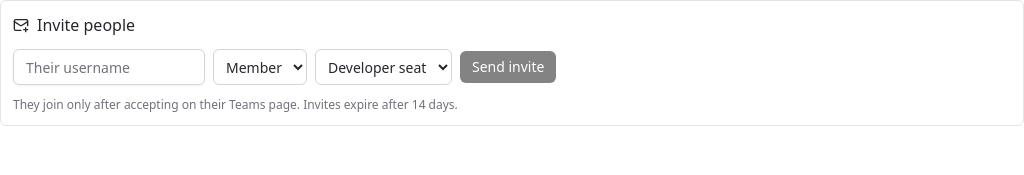
Test: OrganizationInvitesPanel › falls back to a generic error message
This screenshot has width=1024, height=175.
Type "ghost" into the field labelled "username".
click(109, 67); type("ghost")  # box [13,49,205,85]
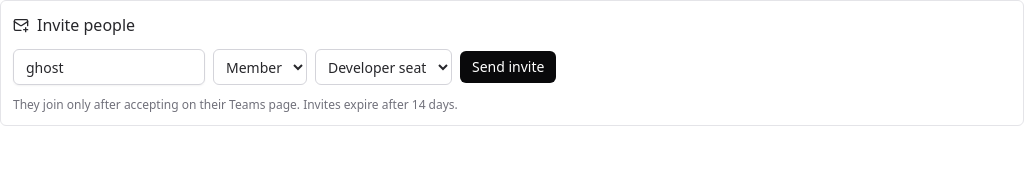
Submit the form named "Invite by username", box [13,49,556,85]
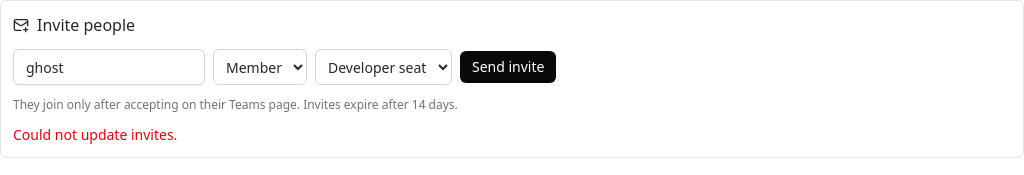
Check: the message reads "Could not update invites.", box [13,125,177,144]
